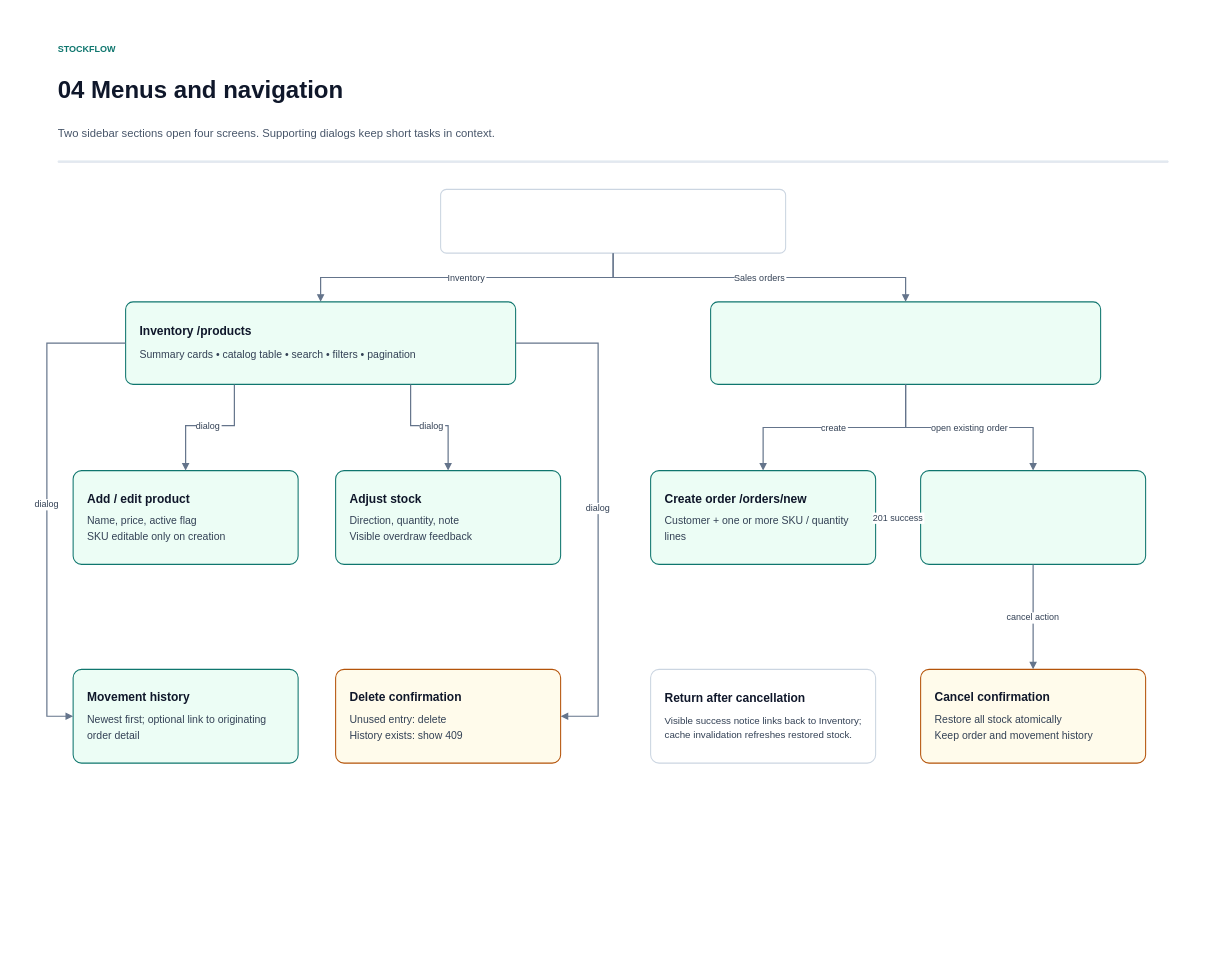
The diagram is 1227 pixels wide and 965 high, and some of its shapes have lost their labels. The box of each missing label's shape, as (x1, y1, x2, y2) in pixels:
Main navigation Warehouse supervisor workspace: (440, 188, 786, 253)
Order detail /orders/:id Historical item prices, total, status; reload-safe URL: (920, 470, 1146, 565)
Sales orders /orders Persisted order history • customer • status • total: (710, 301, 1101, 385)
